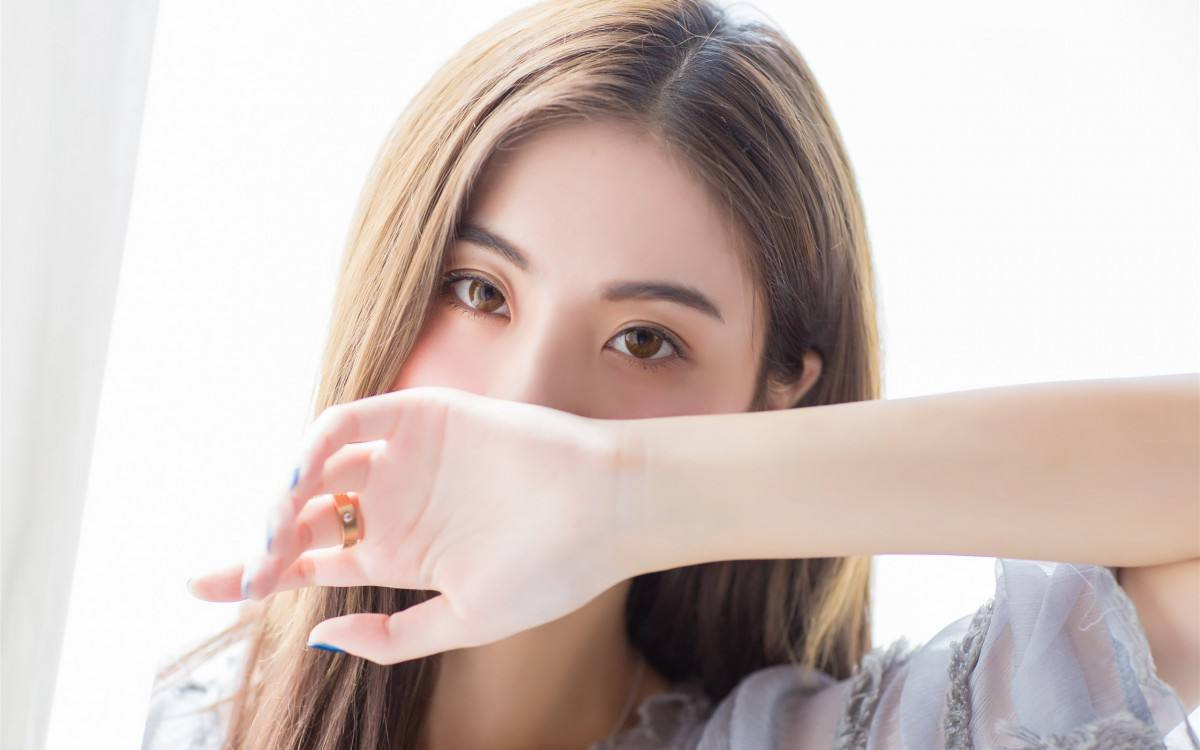person: (275, 23, 948, 665)
